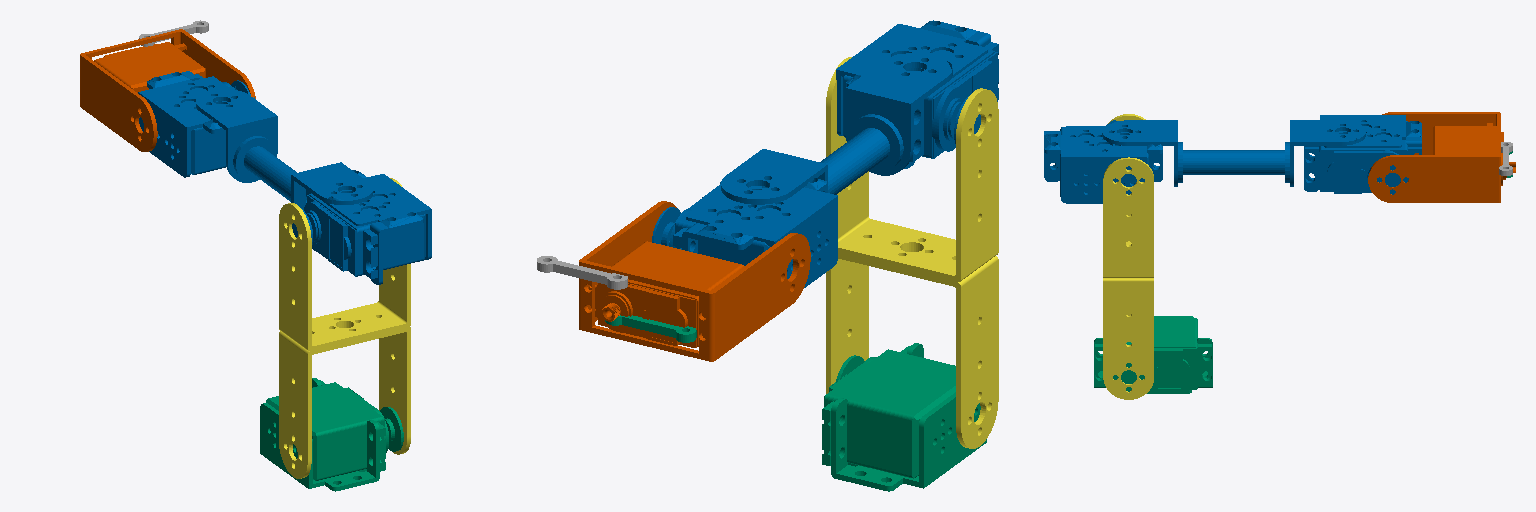
The robot description file, URDF, robot "servo6dof":
<?xml version="1.0" ?>
<!-- =================================================================================== -->
<!-- |    This document was autogenerated by xacro from servo6dof.urdf.xacro           | -->
<!-- |    EDITING THIS FILE BY HAND IS NOT RECOMMENDED                                 | -->
<!-- =================================================================================== -->
<robot name="servo6dof">
  <link name="world"/>
  <link name="base_link">
    <visual>
      <origin rpy="0 0 0" xyz="0.25 0.25 0"/>
      <geometry>
        <mesh filename="package://servo6dof/meshes/basement.stl" scale="6 6 6"/>
      </geometry>
    </visual>
  </link>
  <joint name="virtual_joint" type="fixed">
    <parent link="world"/>
    <child link="base_link"/>
    <origin rpy="0 0 0" xyz="0 0 0"/>
  </joint>
  <link name="primeiro_elo">
    <visual>
      <origin rpy="0 0 0" xyz="0.25 0.57 0"/>
      <geometry>
        <mesh filename="package://servo6dof/meshes/manipulator_elo1.stl" scale="6 6 6"/>
      </geometry>
    </visual>
  </link>
  <joint name="joint_1" type="revolute">
    <parent link="base_link"/>
    <child link="primeiro_elo"/>
    <axis xyz="0 0 1"/>
    <origin rpy="0 0 0" xyz="0 -0.23 -0.01"/>
    <limit effort="30.0" lower="-1.570795" upper="1.570795" velocity="10.0"/>
  </joint>
  <link name="segundo_elo">
    <visual>
      <origin rpy="0 0 0" xyz="0.3 0.6 -0.55"/>
      <geometry>
        <mesh filename="package://servo6dof/meshes/manipulator_elo2.stl" scale="6 6 6"/>
      </geometry>
    </visual>
  </link>
  <joint name="joint_2" type="revolute">
    <parent link="primeiro_elo"/>
    <child link="segundo_elo"/>
    <axis xyz="1 0 0"/>
    <origin rpy="0 0 0" xyz="-0.05 -0.03 0.57"/>
    <limit effort="30.0" lower="-1.570795" upper="1.570795" velocity="10.0"/>
  </joint>
  <link name="terceiro_elo">
    <visual>
      <origin rpy="0 0 0" xyz="0.25 0.6 -1.18"/>
      <geometry>
        <mesh filename="package://servo6dof/meshes/manipulator_elo3.stl" scale="6 6 6"/>
      </geometry>
    </visual>
  </link>
  <joint name="joint_3" type="revolute">
    <parent link="segundo_elo"/>
    <child link="terceiro_elo"/>
    <axis xyz="1 0 0"/>
    <origin rpy="0 0 0" xyz="0.06 0 0.63"/>
    <limit effort="30.0" lower="-1.570795" upper="1.570795" velocity="10.0"/>
  </joint>
  <link name="quarto_elo">
    <visual>
      <origin rpy="0 0 0" xyz="0.25 -0.187 -1.18"/>
      <geometry>
        <mesh filename="package://servo6dof/meshes/manipulator_elo4.stl" scale="6 6 6"/>
      </geometry>
    </visual>
  </link>
  <joint name="joint_4" type="revolute">
    <parent link="terceiro_elo"/>
    <child link="quarto_elo"/>
    <axis xyz="1 0 0"/>
    <origin rpy="0 0 0" xyz="0 0.78 0"/>
    <limit effort="30.0" lower="-1.570795" upper="1.570795" velocity="10.0"/>
  </joint>
  <link name="base_garra">
    <visual>
      <origin rpy="0 0 1.570795" xyz="0 0 0"/>
      <geometry>
        <mesh filename="package://servo6dof/meshes/base_garra.stl" scale="6 6 6"/>
      </geometry>
    </visual>
  </link>
  <joint name="joint_5" type="revolute">
    <parent link="quarto_elo"/>
    <child link="base_garra"/>
    <axis xyz="0 1 0"/>
    <origin rpy="0 0 0" xyz="0.02 0.36 0"/>
    <limit effort="30.0" lower="-1.570795" upper="1.570795" velocity="10.0"/>
  </joint>
  <link name="garra_elo1">
    <visual>
      <origin rpy="0 3.14159 -1.570795" xyz="0.07 -0.15 0.05"/>
      <geometry>
        <mesh filename="package://servo6dof/meshes/garra_elo1.stl" scale="6 6 6"/>
      </geometry>
    </visual>
  </link>
  <joint name="joint_6" type="revolute">
    <parent link="base_garra"/>
    <child link="garra_elo1"/>
    <axis xyz="0 0 1"/>
    <origin rpy="0 0 0" xyz="-0.072 0.12 0.01"/>
    <limit effort="30.0" lower="-0.6981311111111111" upper="0.5235983333333333" velocity="10.0"/>
  </joint>
  <link name="garra_elo2a">
    <visual>
      <origin rpy="0 0 0" xyz="-0.403 0.133 0"/>
      <geometry>
        <mesh filename="package://servo6dof/meshes/garra_elo2.stl" scale="6 6 6"/>
      </geometry>
    </visual>
  </link>
  <joint name="joint_garra_1" type="revolute">
    <parent link="base_garra"/>
    <child link="garra_elo2a"/>
    <axis xyz="0 0 1"/>
    <origin rpy="0 0 0" xyz="-0.05 0.27 0.01"/>
    <mimic joint="joint_6" multiplier="1" offset="-0.2"/>
    <limit effort="30.0" lower="-1.570795" upper="1.570795" velocity="10.0"/>
  </joint>
  <link name="garra_elo3a">
    <visual>
      <origin rpy="0 3.14159 0" xyz="0.28 0.205 0"/>
      <geometry>
        <mesh filename="package://servo6dof/meshes/garra_pinca.stl" scale="6 6 6"/>
      </geometry>
    </visual>
  </link>
  <joint name="joint_pinca_a" type="revolute">
    <parent link="garra_elo1"/>
    <child link="garra_elo3a"/>
    <axis xyz="0 0 1"/>
    <origin rpy="0 0 -1.570795" xyz="-0.13 0.13 0"/>
    <mimic joint="joint_6" multiplier="-1" offset="0.2"/>
    <limit effort="30.0" velocity="10.0"/>
  </joint>
  <link name="garra_elo2">
    <visual>
      <origin rpy="0 0 1.570795" xyz="-0.07 -0.15 -0.03"/>
      <geometry>
        <mesh filename="package://servo6dof/meshes/garra_elo1.stl" scale="6 6 6"/>
      </geometry>
    </visual>
  </link>
  <joint name="joint_7" type="revolute">
    <parent link="base_garra"/>
    <child link="garra_elo2"/>
    <axis xyz="0 0 1"/>
    <origin rpy="0 0 0" xyz="+0.072 0.12 0.01"/>
    <mimic joint="joint_6" multiplier="-1" offset="0"/>
    <limit effort="30.0" lower="-0.5235983333333333" upper="0.5235983333333333" velocity="10.0"/>
  </joint>
  <link name="garra_elo2b">
    <visual>
      <origin rpy="0 0 3.14159" xyz="0.273 -0.036 0"/>
      <geometry>
        <mesh filename="package://servo6dof/meshes/garra_elo2.stl" scale="6 6 6"/>
      </geometry>
    </visual>
  </link>
  <joint name="joint_garra_3" type="revolute">
    <parent link="base_garra"/>
    <child link="garra_elo2b"/>
    <axis xyz="0 0 1"/>
    <origin rpy="0 0 0" xyz="+0.04 0.27 0.01"/>
    <mimic joint="joint_6" multiplier="-1" offset="-1.6708"/>
    <limit effort="30.0" lower="-1.570795" upper="1.570795" velocity="10.0"/>
  </joint>
  <link name="garra_elo3b">
    <visual>
      <origin rpy="0 0 0" xyz="-0.285 0.205 0"/>
      <geometry>
        <mesh filename="package://servo6dof/meshes/garra_pinca.stl" scale="6 6 6"/>
      </geometry>
    </visual>
  </link>
  <joint name="joint_pinca_b" type="revolute">
    <parent link="garra_elo2"/>
    <child link="garra_elo3b"/>
    <axis xyz="0 0 1"/>
    <origin rpy="0 0 1.570795" xyz="0.13 0.13 0"/>
    <mimic joint="joint_6" multiplier="1" offset="-0.2"/>
    <limit effort="30.0" velocity="10.0"/>
  </joint>
</robot>

--- Facts derived from the render (not from the file) ---
Views: 3 orthographic renders of the robot side by side, from view 1: azimuth 30°, elevation 25°; view 2: azimuth 150°, elevation 25°; view 3: azimuth 270°, elevation 25°.
Model servo6dof with 13 links and 12 joints (11 revolute, 1 fixed), rooted at world, posed all joints at 0.
Visible links, largest first — view 1: terceiro_elo, segundo_elo, quarto_elo, primeiro_elo; view 2: terceiro_elo, segundo_elo, quarto_elo, primeiro_elo, garra_elo1, garra_elo2; view 3: terceiro_elo, segundo_elo, quarto_elo, primeiro_elo.
Boxes of the visible links, <box> form: terceiro_elo: <box>138,71,431,284</box>; segundo_elo: <box>279,178,410,478</box>; quarto_elo: <box>80,29,255,151</box>; primeiro_elo: <box>260,378,403,491</box>; terceiro_elo: <box>652,20,998,287</box>; segundo_elo: <box>826,57,998,448</box>; quarto_elo: <box>579,201,810,361</box>; primeiro_elo: <box>822,343,986,491</box>; garra_elo1: <box>537,256,627,289</box>; garra_elo2: <box>605,315,696,342</box>; terceiro_elo: <box>1044,115,1421,203</box>; segundo_elo: <box>1103,114,1153,399</box>; quarto_elo: <box>1368,112,1515,202</box>; primeiro_elo: <box>1094,316,1212,393</box>.
Bounding box of the posed robot: 0.3955 × 1.38 × 0.8212 m (x, y, z).
6 mesh visuals loaded from 9 distinct referenced files (5 binary STL); not drawn: 6 (reference not matched to a file when rendering).